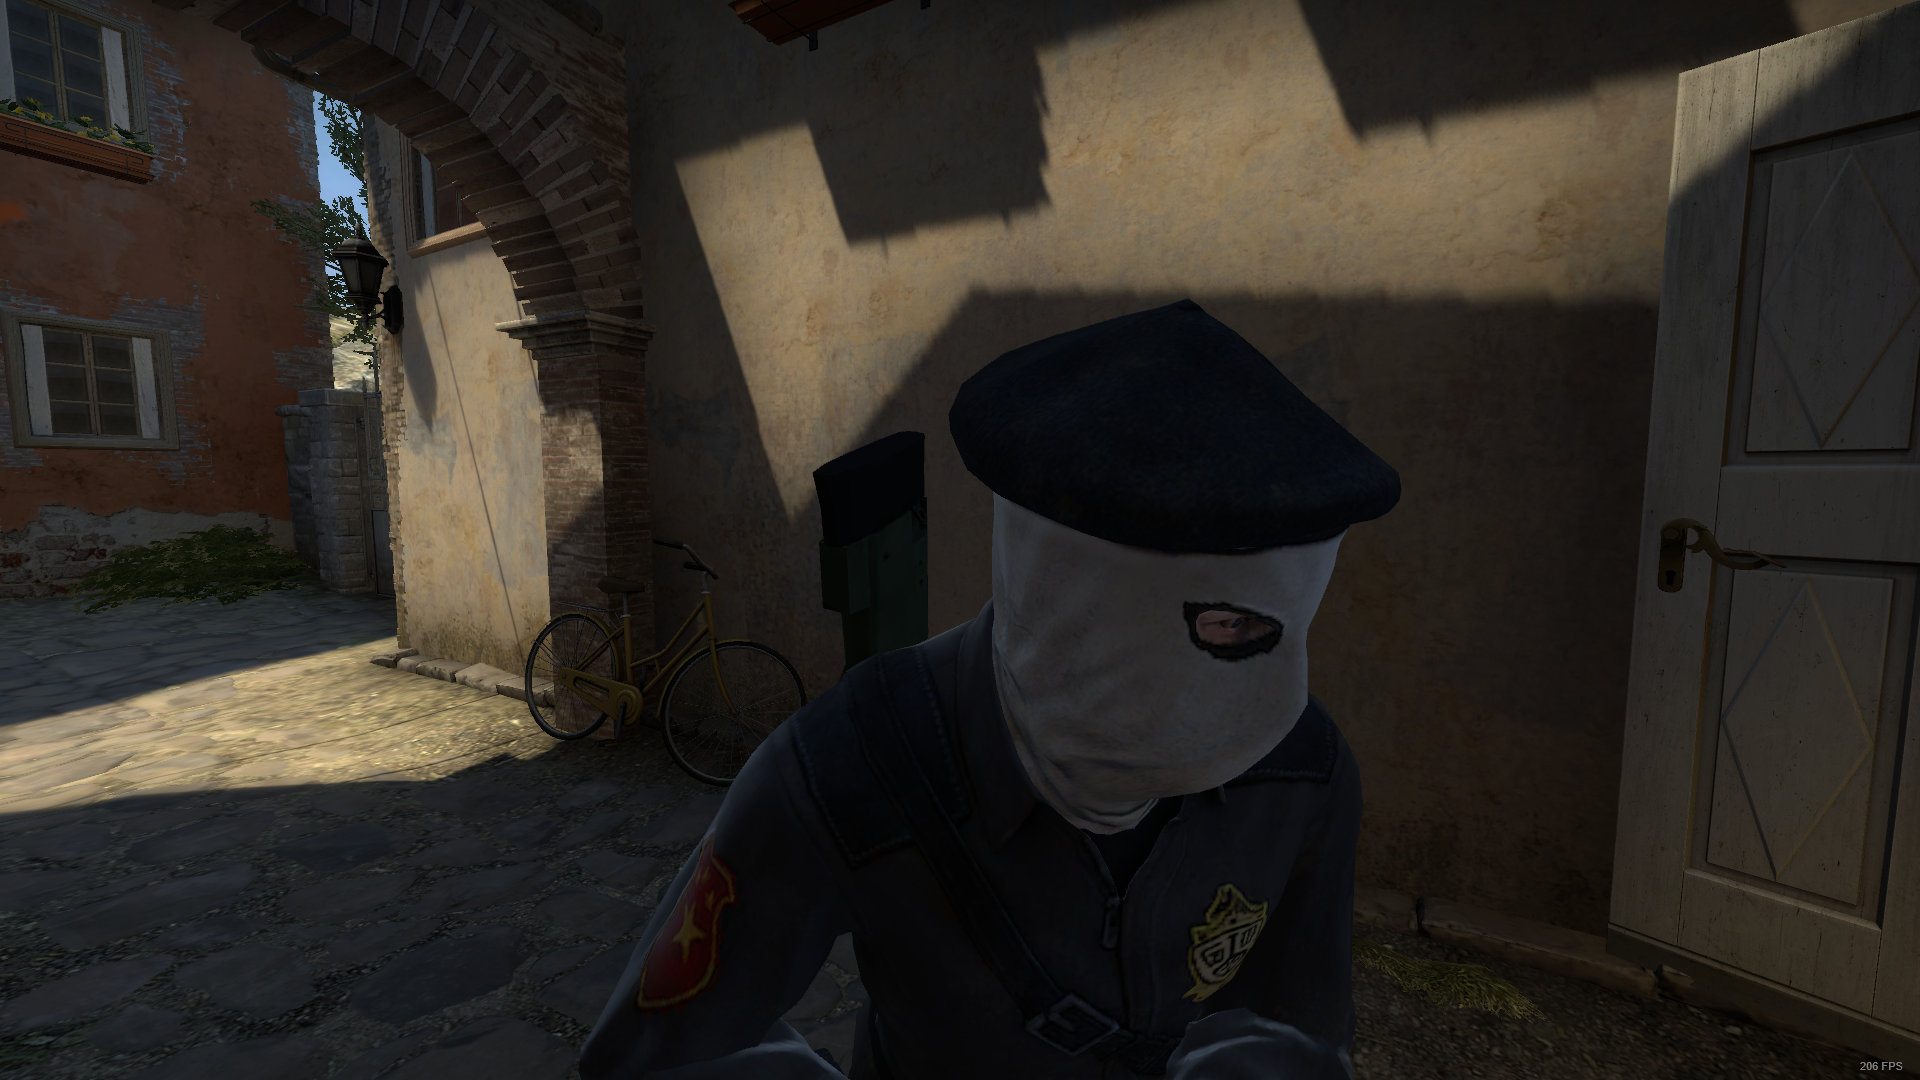t: (585, 295, 1404, 1080)
